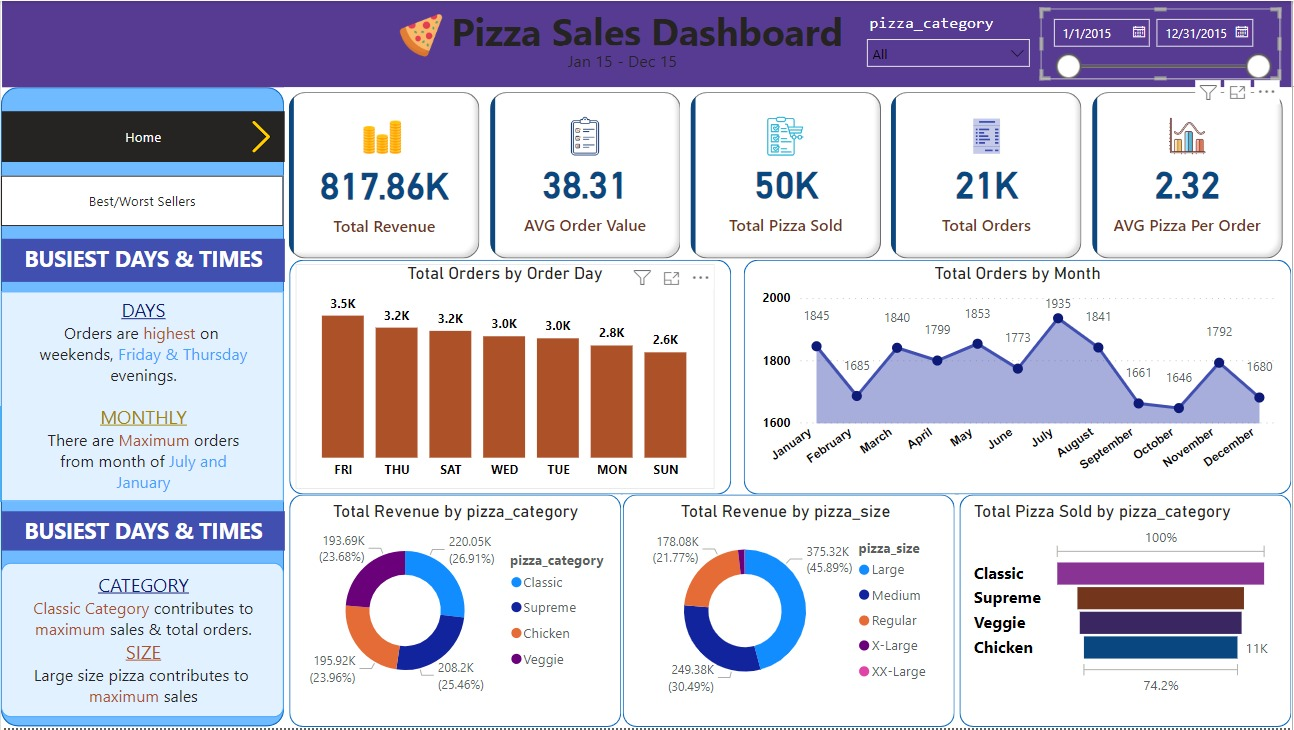

What the dashboard file says about the page in this screenshot:
{"tool":"powerbi","page":{"name":"Home","canvas":[1280,720],"ordinal":0},"visuals":[{"type":"shape","box":[0,85.9,280.7,633.7],"z":0},{"type":"textbox","box":[1,0,1278.9,85.5],"z":1000},{"type":"cardVisual","fields":{"Data":["Our Measure.Total Revenue","Our Measure.AVG Order Value","Our Measure.Total Pizza Sold","Our Measure.Total Orders","Our Measure.AVG Pizza Per Order"]},"box":[280.9,86,999,175.1],"z":2000},{"type":"image","box":[236.9,7.3,358.5,53.5],"z":3000},{"type":"textbox","box":[556.6,44,127.9,33.5],"z":4000},{"type":"shape","box":[286.2,256.8,438.2,232.7],"z":5000},{"type":"columnChart","fields":{"Y":["Our Measure.Total Orders"],"Category":["pizza_sales.Order Day"]},"box":[292.5,261,415.1,223.3],"z":6000},{"type":"shape","box":[736.9,256.8,543,232.7],"z":7000},{"type":"areaChart","fields":{"Category":["pizza_sales.order_date.Variation.Date Hierarchy.Month"],"Y":["Our Measure.Total Orders"]},"box":[747.4,261,522,223.3],"z":8000},{"type":"shape","box":[286.2,489.5,329.1,230.6],"z":9000},{"type":"donutChart","fields":{"Y":["Our Measure.Total Revenue"],"Category":["pizza_sales.pizza_category"]},"box":[292.5,496.9,317.6,197.1],"z":10000},{"type":"shape","box":[616.4,489.5,329.1,230.6],"z":11000},{"type":"donutChart","fields":{"Y":["Our Measure.Total Revenue"],"Category":["pizza_sales.pizza_size"]},"box":[620.6,496.9,314.5,197.1],"z":12000},{"type":"shape","box":[950.7,489.5,329.1,230.6],"z":13000},{"type":"funnel","fields":{"Y":["Our Measure.Total Pizza Sold"],"Category":["pizza_sales.pizza_category"]},"box":[960.2,496.9,302.9,197.1],"z":14000},{"type":"slicer","fields":{"Values":["pizza_sales.pizza_category"]},"box":[848.4,7.3,182.2,64.9],"z":15000},{"type":"textbox","box":[1,235.7,280.6,42.8],"z":16000},{"type":"textbox","box":[0,287.9,280.6,208.6],"z":17000},{"type":"textbox","box":[1,505.9,280.6,38.6],"z":18000},{"type":"textbox","box":[0,557,280.6,153.3],"z":19000},{"type":"pageNavigator","box":[1,109.5,280.6,50.1],"z":21000},{"type":"pageNavigator","box":[0,173.2,280.6,50.1],"z":22000},{"type":"image","box":[236.8,112.7,41.7,42.8],"z":23000},{"type":"slicer","fields":{"Values":["pizza_sales.order_date"]},"box":[1030.6,10.4,249.3,66.8],"z":23001}]}

Visuals, with their boxes in screenshot pixels (x1, y1, x2, y2), scaled from the page's 1280x720 canvas onto the 1294x730 screenshot:
shape: 0/87/284/729
textbox: 1/0/1293/87
cardVisual - Our Measure.Total Revenue x Our Measure.AVG Order Value: 284/87/1293/265
image: 239/7/602/62
textbox: 563/45/692/79
shape: 289/260/732/496
columnChart - Our Measure.Total Orders x pizza_sales.Order Day: 296/265/715/491
shape: 745/260/1293/496
areaChart - pizza_sales.order_date.Variation.Date Hierarchy.Month x Our Measure.Total Orders: 756/265/1283/491
shape: 289/496/622/729
donutChart - Our Measure.Total Revenue x pizza_sales.pizza_category: 296/504/617/704
shape: 623/496/956/729
donutChart - Our Measure.Total Revenue x pizza_sales.pizza_size: 627/504/945/704
shape: 961/496/1293/729
funnel - Our Measure.Total Pizza Sold x pizza_sales.pizza_category: 971/504/1277/704
slicer - pizza_sales.pizza_category: 858/7/1042/73
textbox: 1/239/285/282
textbox: 0/292/284/503
textbox: 1/513/285/552
textbox: 0/565/284/720
pageNavigator: 1/111/285/162
pageNavigator: 0/176/284/226
image: 239/114/282/158
slicer - pizza_sales.order_date: 1042/11/1293/78
